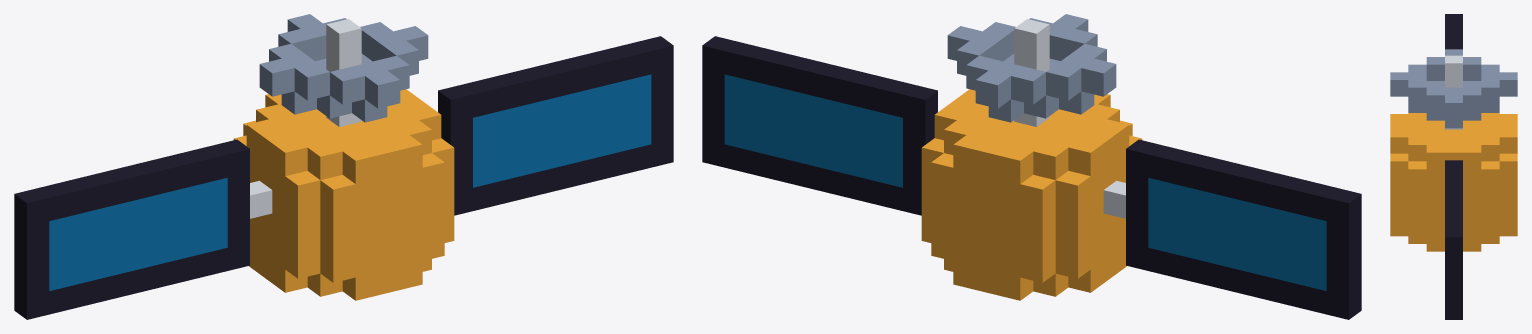
The model's file is satellite_small.glb.
The picture shows the model from 3 angles, left to right: view 1: azimuth 30°, elevation 25°; view 2: azimuth 150°, elevation 25°; view 3: azimuth 270°, elevation 25°; orthographic projection. The views are drawn at different scales.
Visible parts, largest first — view 1: ObjObject.008; view 2: ObjObject.008; view 3: ObjObject.008.
Boxes of the visible parts, <box> form: ObjObject.008: <box>14,14,673,319</box>; ObjObject.008: <box>702,14,1361,319</box>; ObjObject.008: <box>1390,14,1517,319</box>.
Size of the model in its own units: 2.9 by 1 by 0.7.
Materials: 1 (1 with a texture image).
